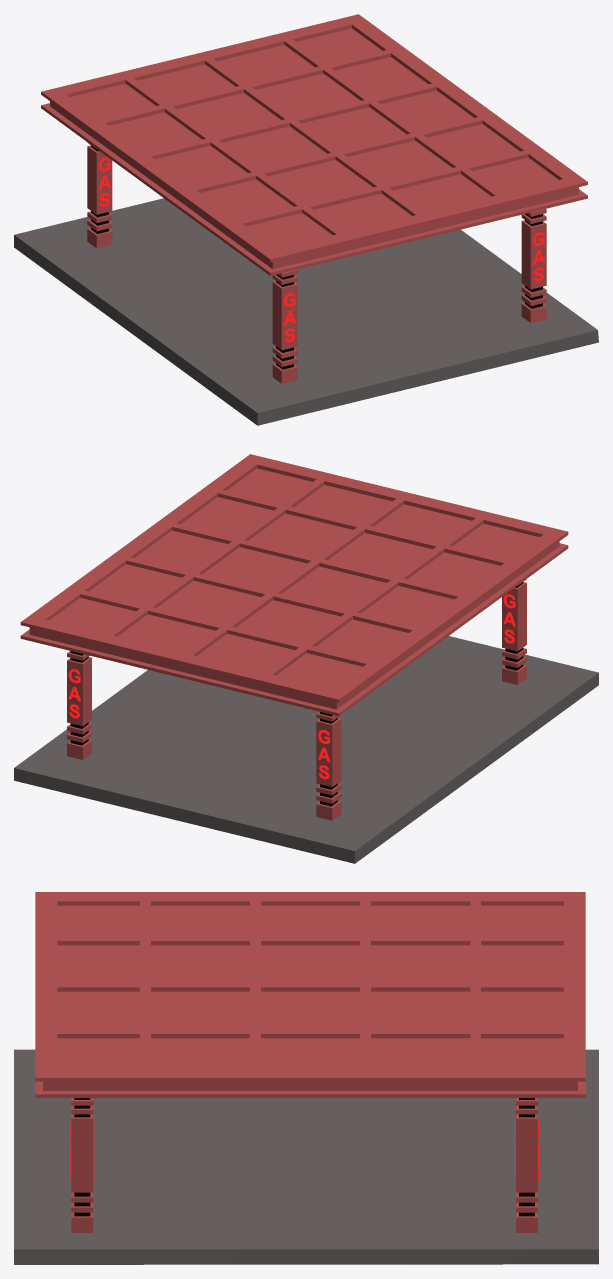
Rendered from 05 Gas_Station.FBX.
3 views of the same model, one above another, from view 1: azimuth 30°, elevation 25°; view 2: azimuth 150°, elevation 25°; view 3: azimuth 270°, elevation 25° (orthographic). The views are drawn at different scales.
Parts seen in each view (by area): view 1: Gas_Station; view 2: Gas_Station; view 3: Gas_Station.
Part boxes in pixels (x1,y1,x2,y2): Gas_Station: (14, 14, 598, 425); Gas_Station: (14, 454, 598, 863); Gas_Station: (14, 892, 598, 1264).
Bounding box in the file's own units: 4300 × 1860 × 5315.
